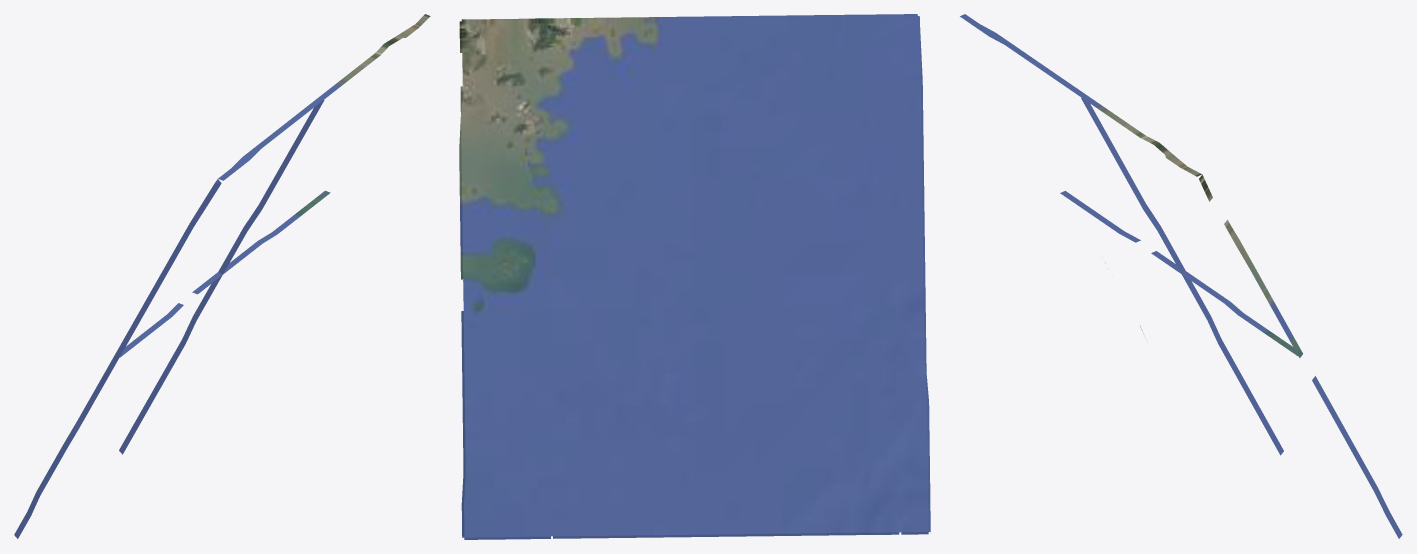
3 views of the same model, side by side, from view 1: azimuth 30°, elevation 25°; view 2: azimuth 150°, elevation 25°; view 3: azimuth 270°, elevation 25° (orthographic). The views are drawn at different scales.
Size of the model in its own units: 157748 by 141037 by 136367.
Materials: 1 (1 with a texture image).
